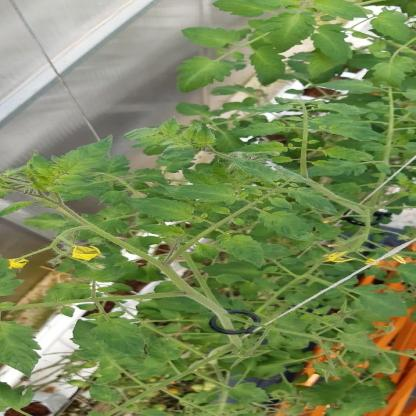T_L_R: (54, 138, 112, 175), (219, 236, 265, 268)
T_S_H: (3, 174, 233, 331)
